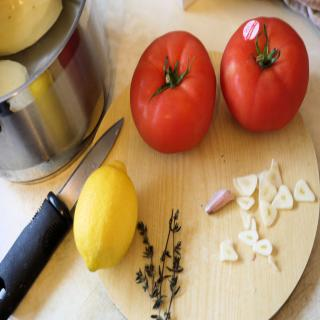tomato: (129, 28, 216, 150), (226, 12, 316, 128)
